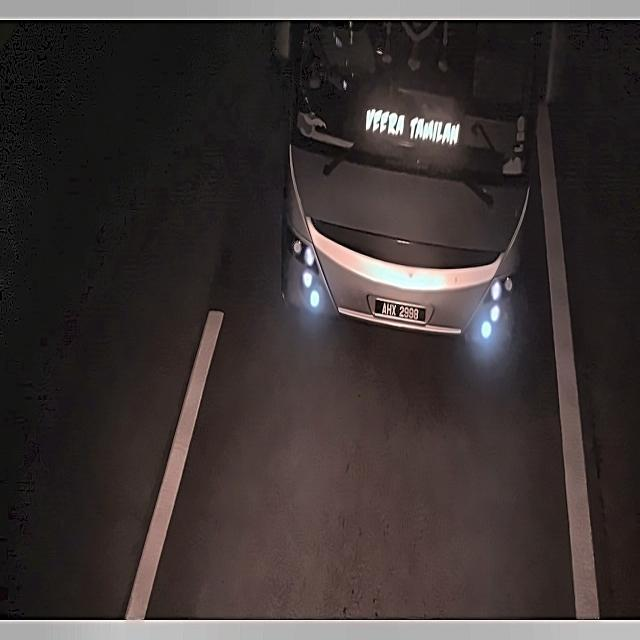car: (366, 281, 437, 332)
